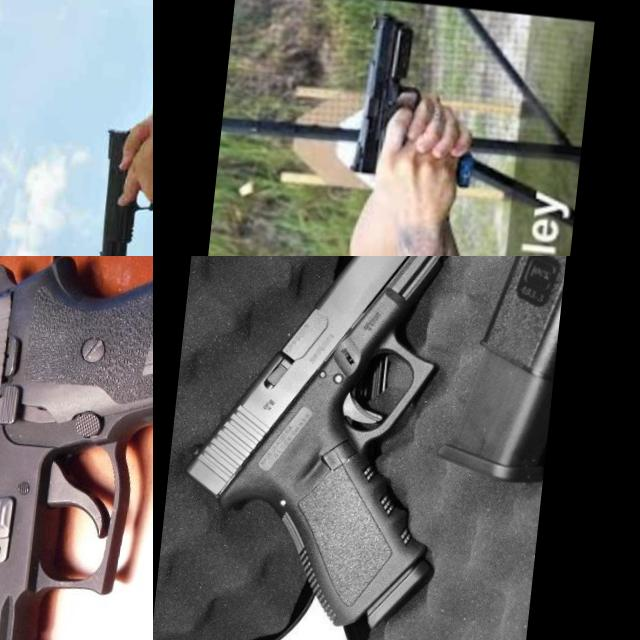handgun: (157, 256, 478, 640), (0, 256, 153, 640), (343, 7, 433, 188), (90, 124, 153, 256)
